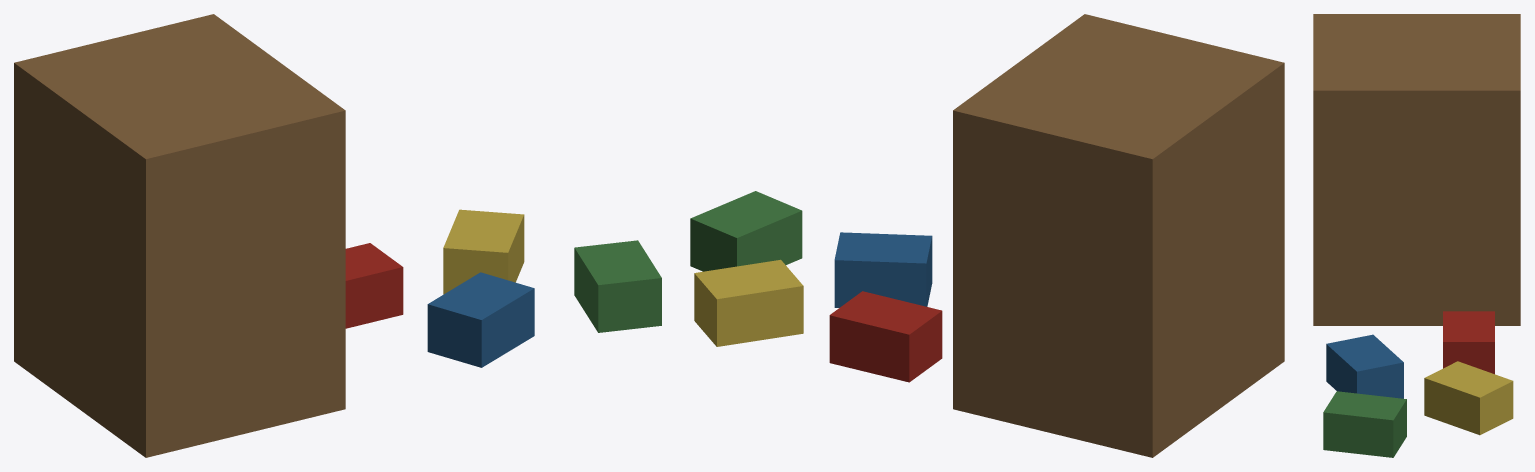
File: clutter_box.glb
3 views of the same model, side by side, from view 1: azimuth 30°, elevation 25°; view 2: azimuth 150°, elevation 25°; view 3: azimuth 270°, elevation 25° (orthographic). The views are drawn at different scales.
Visible parts, largest first — view 1: clutter_box; view 2: clutter_box; view 3: clutter_box.
Part boxes in pixels (x1,y1,x2,y2): clutter_box: [14, 14, 661, 457]; clutter_box: [690, 14, 1284, 457]; clutter_box: [1313, 14, 1520, 457].
Bounding box in the file's own units: 0.9514 × 0.5 × 0.4.
